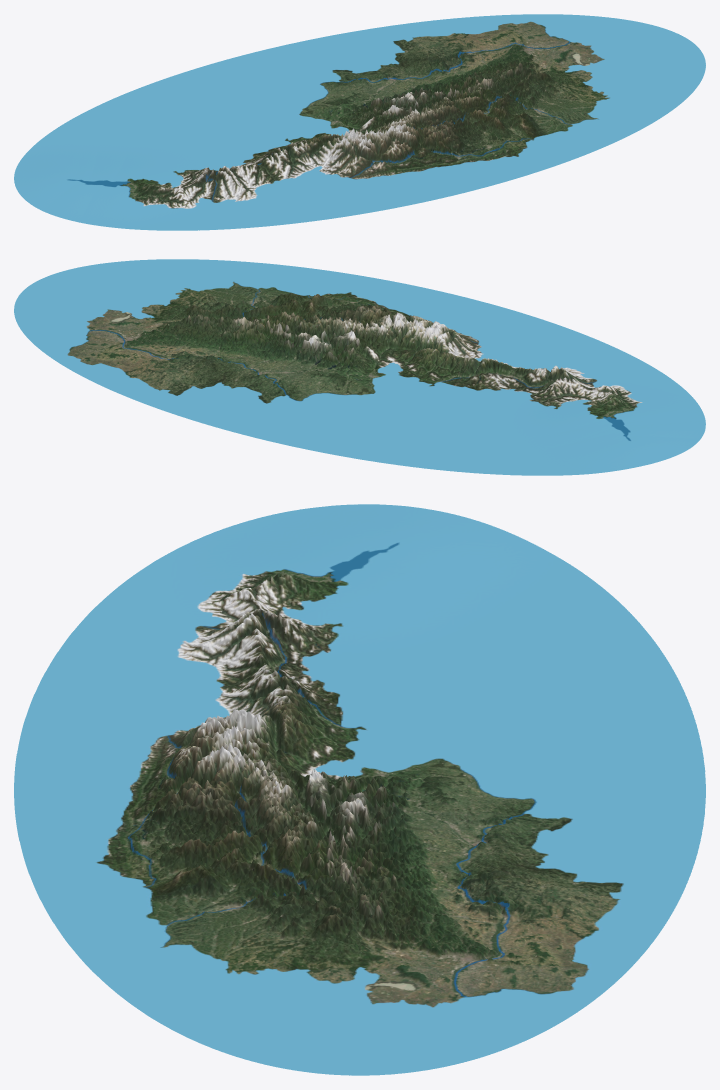
The model's file is AUT-previa-terrain.glb.
3 views of the same model, one above another, from view 1: azimuth 30°, elevation 25°; view 2: azimuth 150°, elevation 25°; view 3: azimuth 270°, elevation 25° (orthographic). The views are drawn at different scales.
Visible parts, largest first — view 1: Áustria; view 2: Áustria; view 3: Áustria.
Part boxes in pixels (left/top/right/bottom): Áustria: left=14, top=14, right=705, bottom=230; Áustria: left=14, top=259, right=705, bottom=475; Áustria: left=14, top=504, right=705, bottom=1075.
Size of the model in its own units: 2.31 by 0.0894 by 1.19.
1 material, 1 textured.
